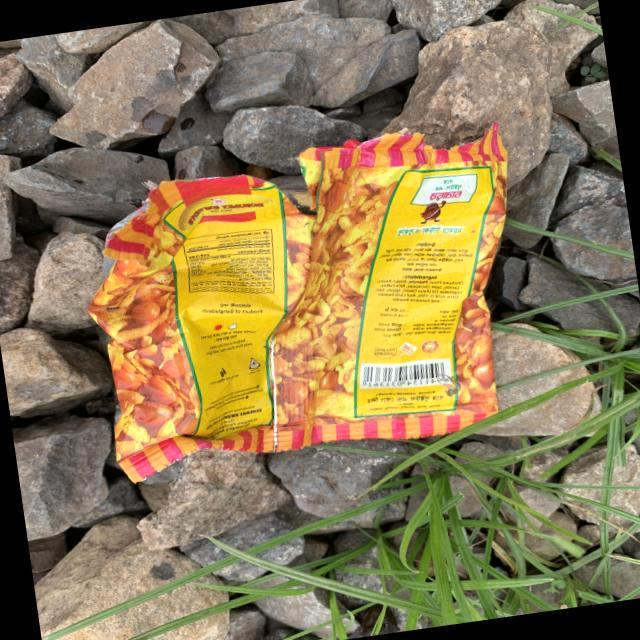packet: (123, 179, 486, 442)
